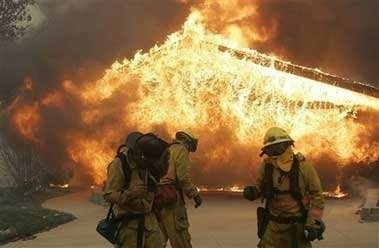fire: (57, 1, 379, 185)
